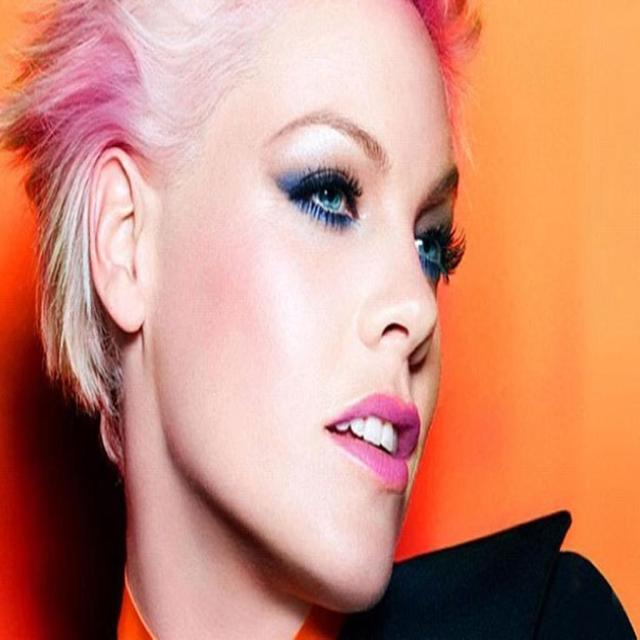Face: (174, 4, 464, 635)
